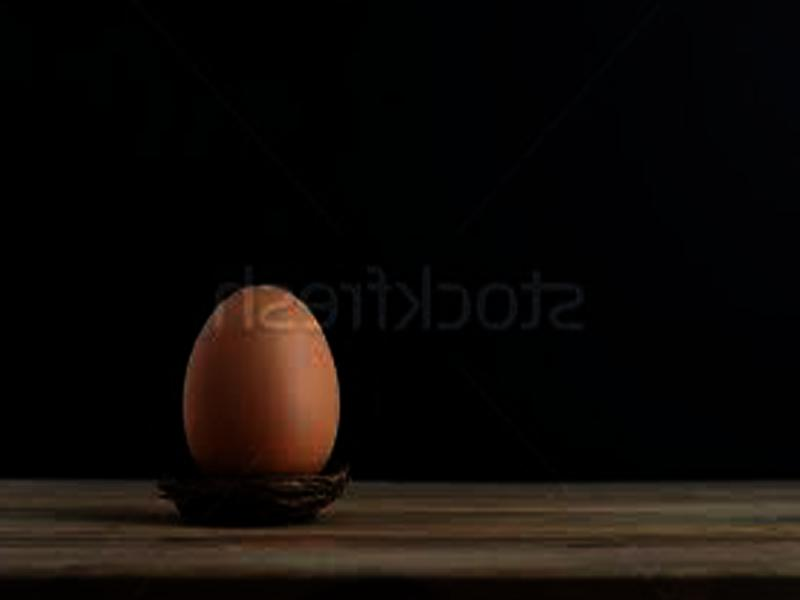Eggs: (179, 285, 336, 479)
